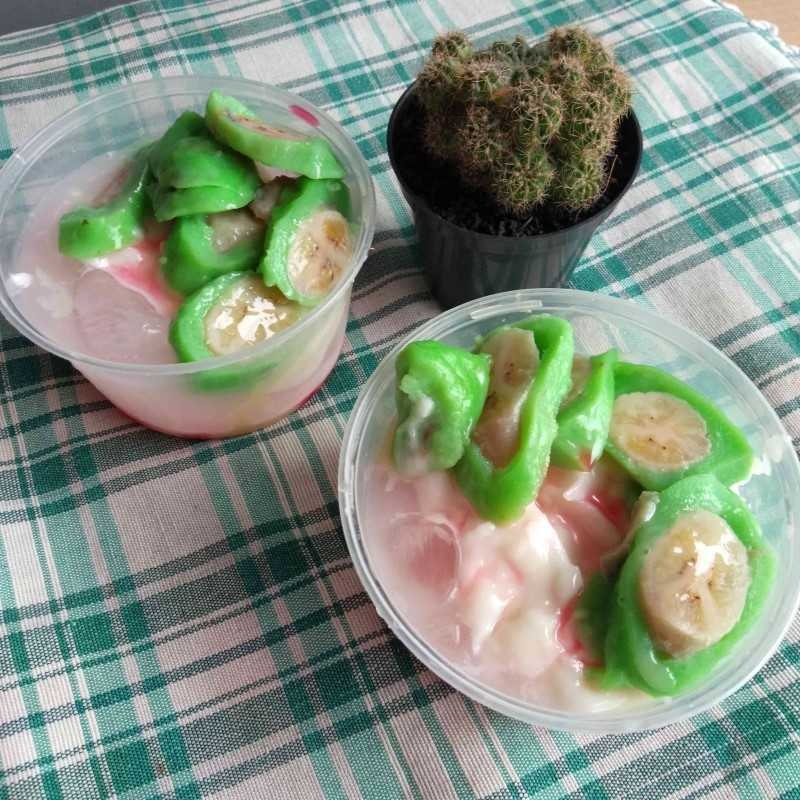pisang_ijo: (613, 471, 778, 741)
